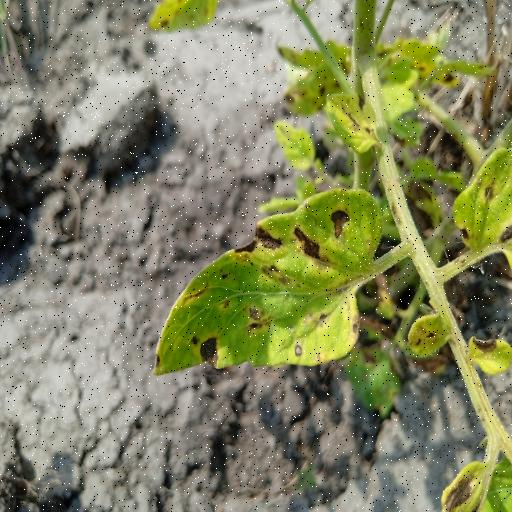Tomato_Brown_Spots: (150, 183, 390, 378)
